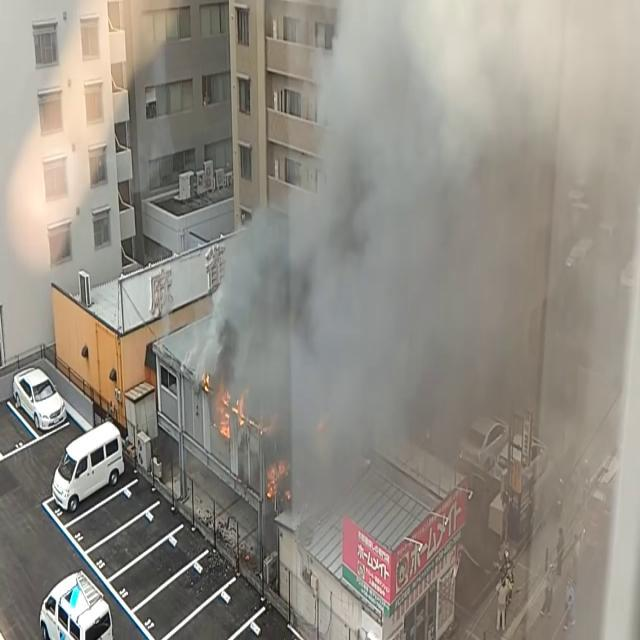Smoke: (198, 1, 640, 505)
